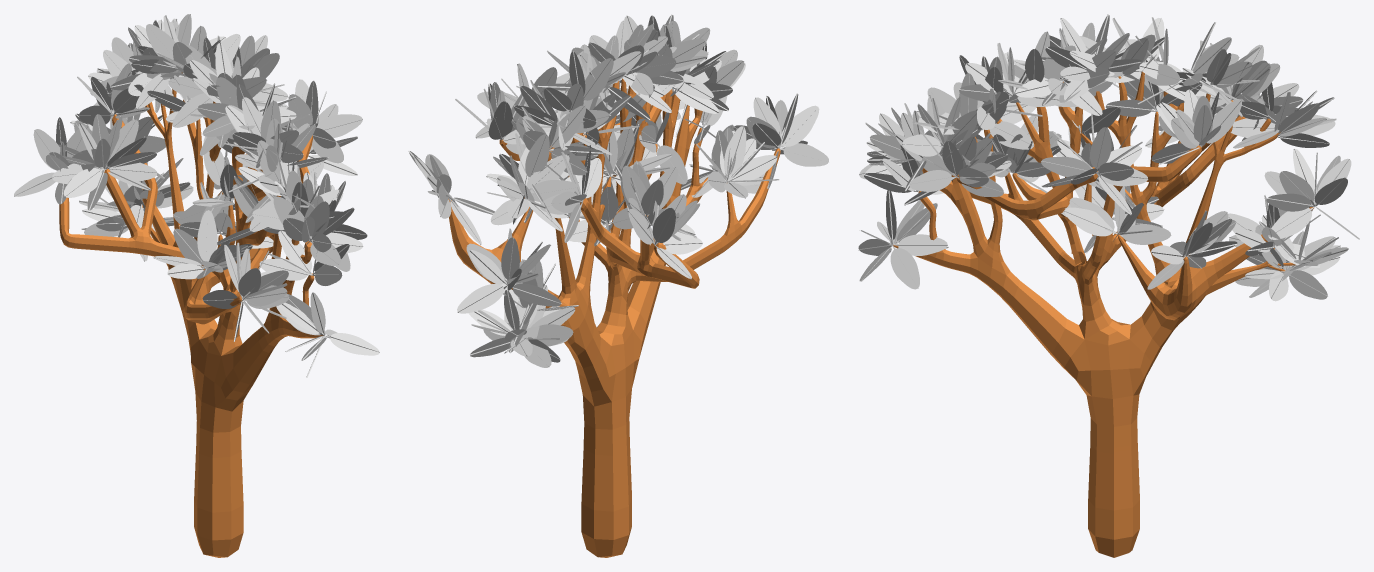
File: tree.fbx
3 views of the same model, side by side, from view 1: azimuth 30°, elevation 25°; view 2: azimuth 150°, elevation 25°; view 3: azimuth 270°, elevation 25° (orthographic). The views are drawn at different scales.
Visible parts, largest first — view 1: Plane.001|Circle.001|Dupli|110, Plane.001; view 2: Plane.001|Circle.001|Dupli|110, Plane.001; view 3: Plane.001|Circle.001|Dupli|110, Plane.001.
Boxes of the visible parts, x1=… form: Plane.001|Circle.001|Dupli|110: x1=14, y1=14, x2=379, y2=377; Plane.001: x1=59, y1=72, x2=323, y2=557; Plane.001|Circle.001|Dupli|110: x1=408, y1=14, x2=828, y2=367; Plane.001: x1=448, y1=78, x2=780, y2=557; Plane.001|Circle.001|Dupli|110: x1=858, y1=14, x2=1359, y2=301; Plane.001: x1=893, y1=71, x2=1313, y2=557.
Size of the model in its own units: 333 by 540 by 461.
